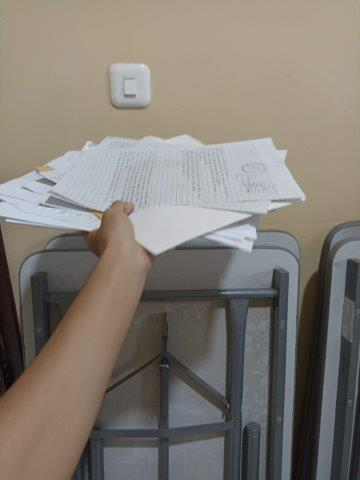kertas: (2, 134, 305, 255)
